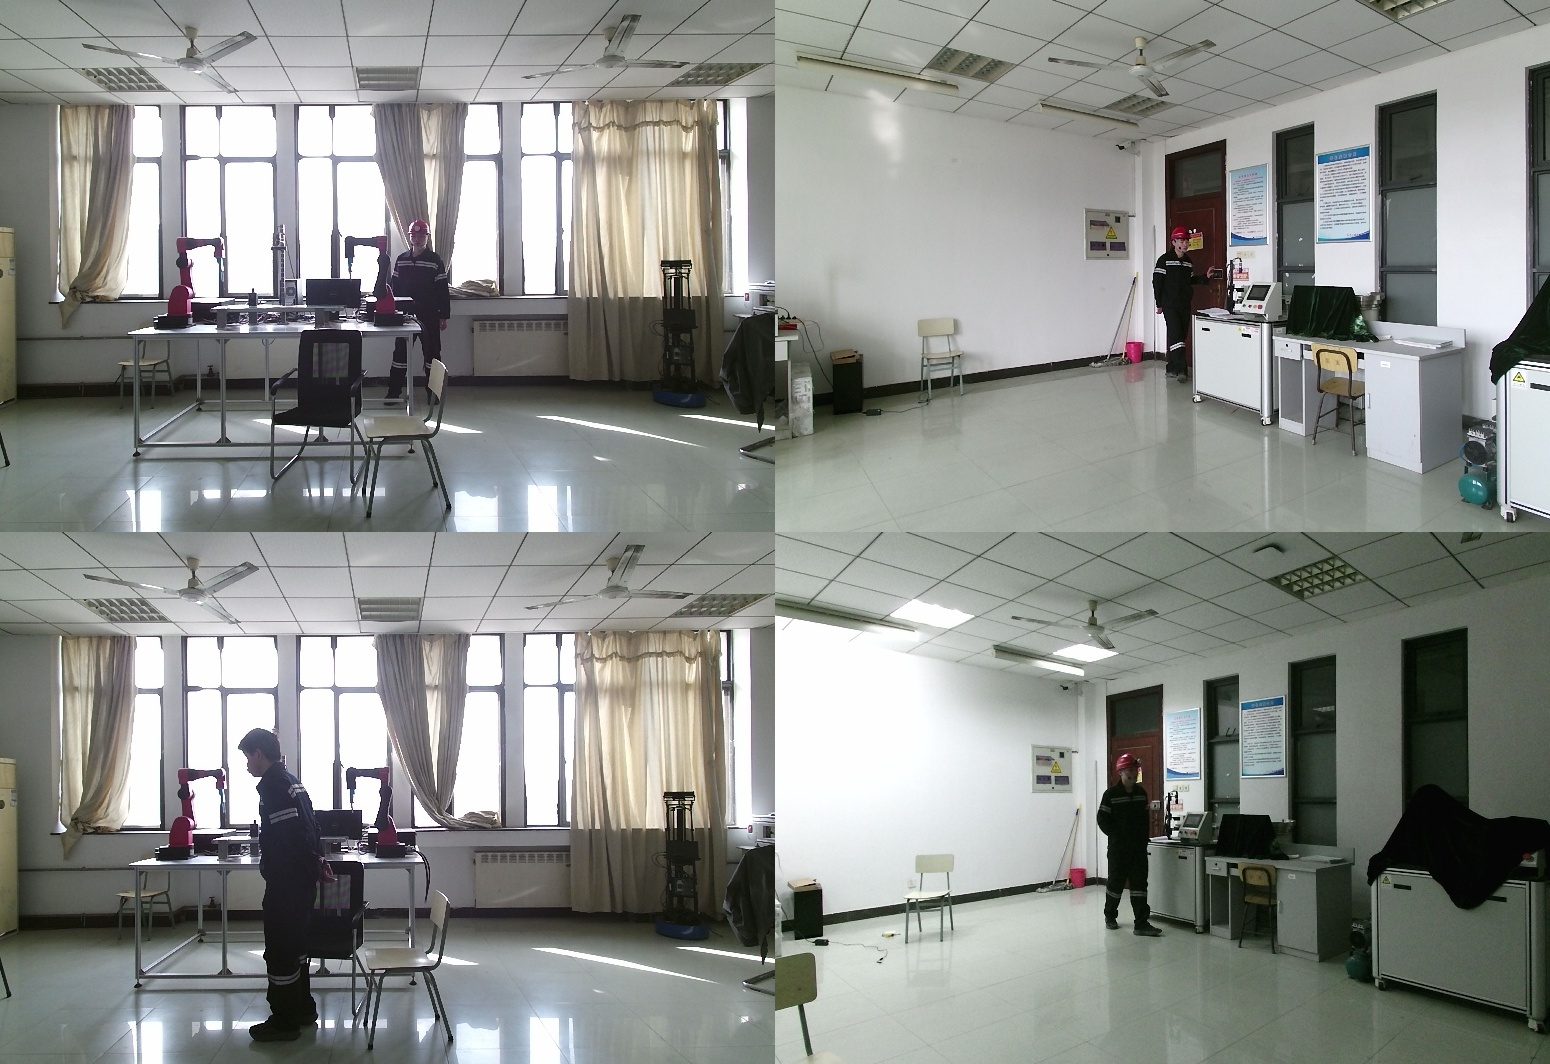person: (238, 728, 336, 1039), (1085, 757, 1165, 941), (387, 220, 455, 420), (1153, 228, 1211, 386)
